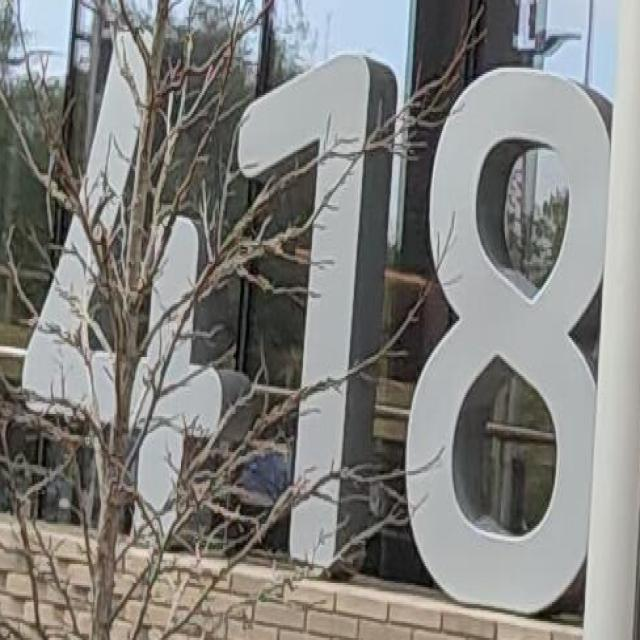character: (403, 57, 615, 624), (18, 21, 228, 560), (234, 51, 375, 594)
